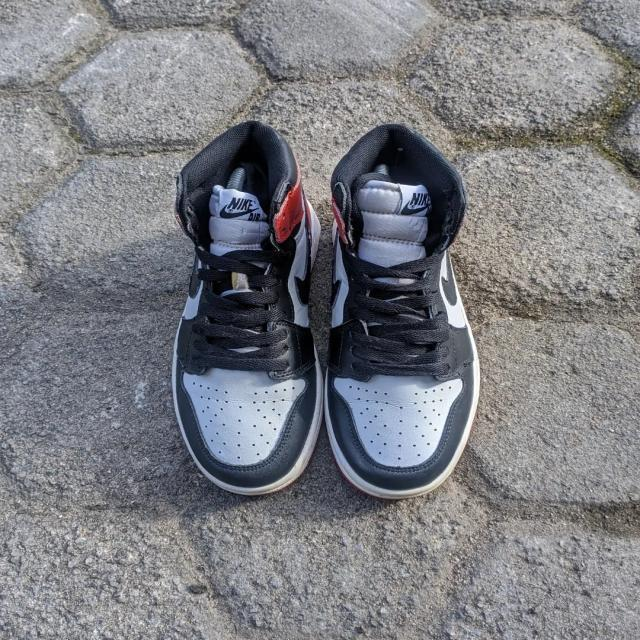nike fake jordan 1: (322, 122, 486, 498), (166, 122, 324, 496)
